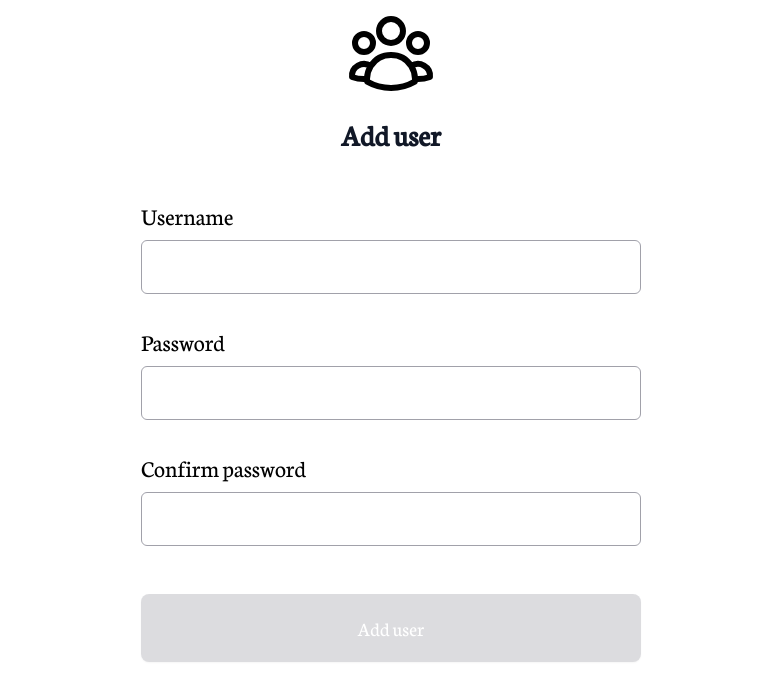
Test case: Add User page › server error response generates alert error
Type "Test string" into the field labelled "Username" at (391, 267), box [141, 240, 641, 294]
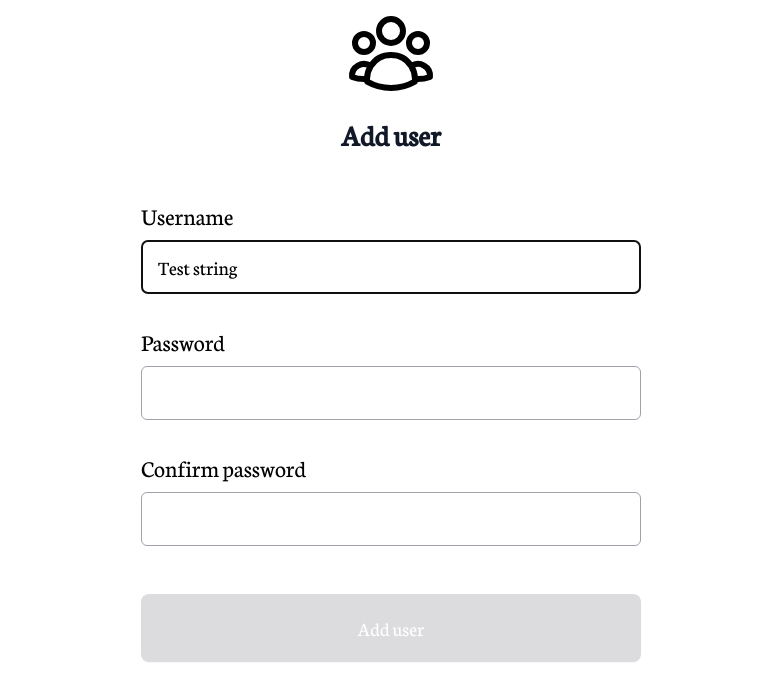
Type "Test string" into the password field labelled "Password" at (391, 393), box [141, 366, 641, 420]
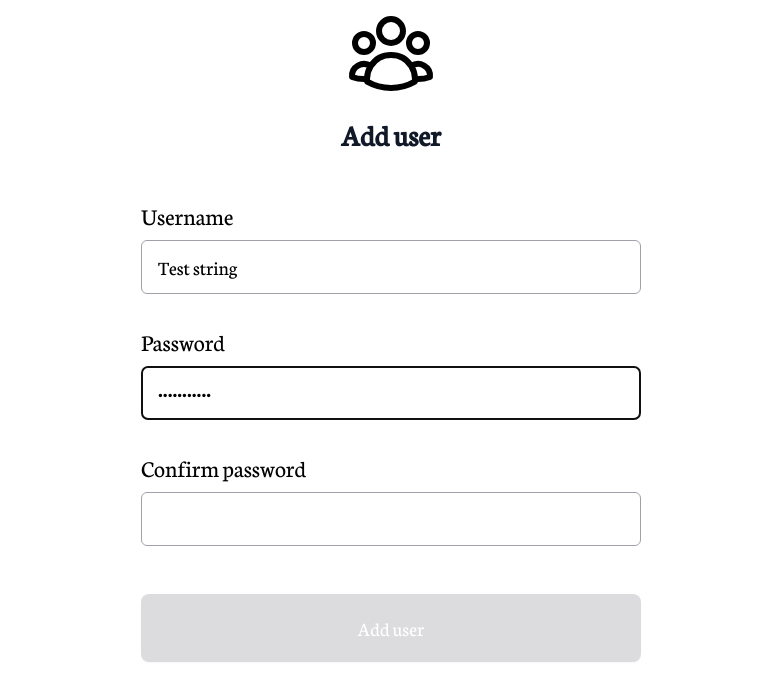
Type "Test string" into the password field labelled "Confirm password" at (391, 519), box [141, 492, 641, 546]
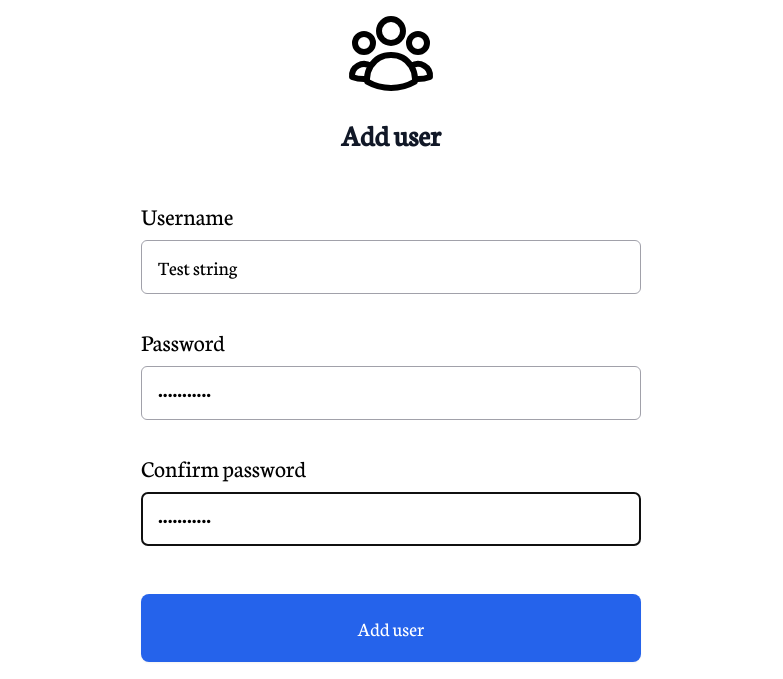
Click the button "Add user" at (391, 628), box [141, 594, 641, 662]
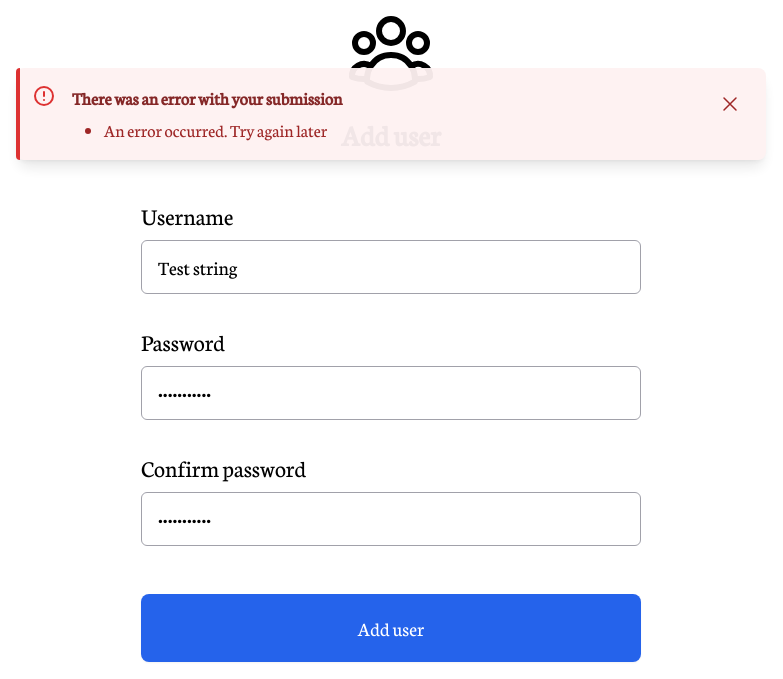
Now the message "There was an error with your submission An error occurred. Try again later" is shown, box [16, 68, 766, 160]
Now the number of list items is 1, box [104, 116, 342, 144]
Now the list item reads "An error occurred. Try again later", box [104, 118, 327, 141]
